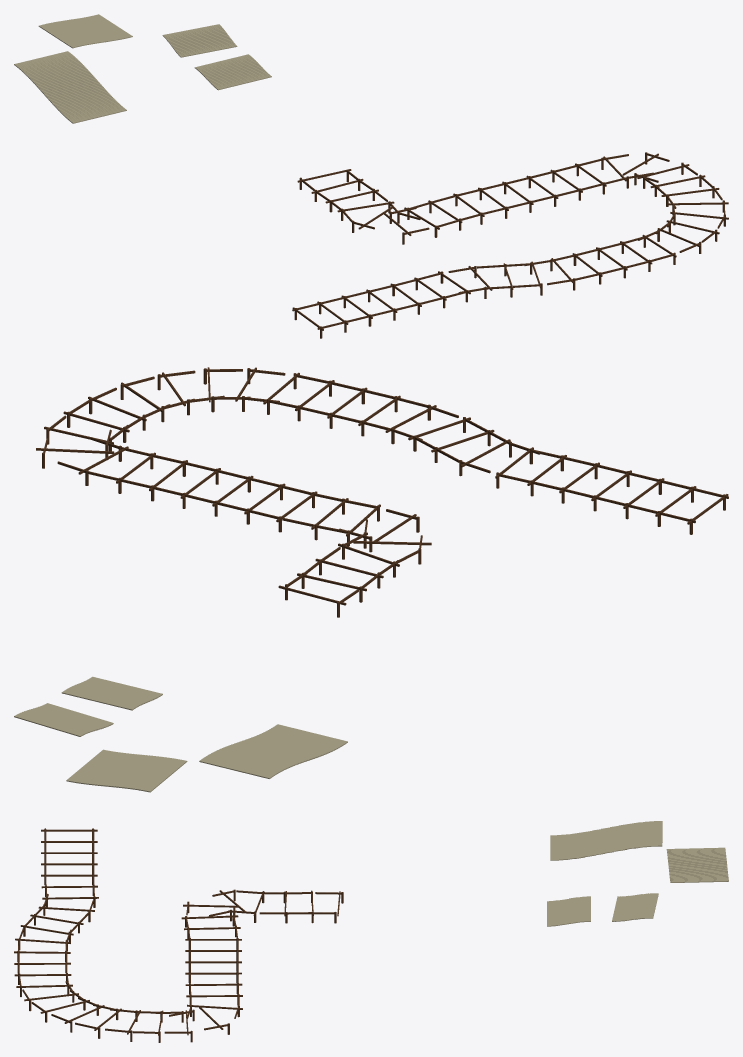
File: stairs_and_dock_structure.glb
3 views of the same model, one above another, from view 1: azimuth 30°, elevation 25°; view 2: azimuth 150°, elevation 25°; view 3: azimuth 270°, elevation 25° (orthographic). The views are drawn at different scales.
Size of the model in its own units: 164 by 10.47 by 241.
